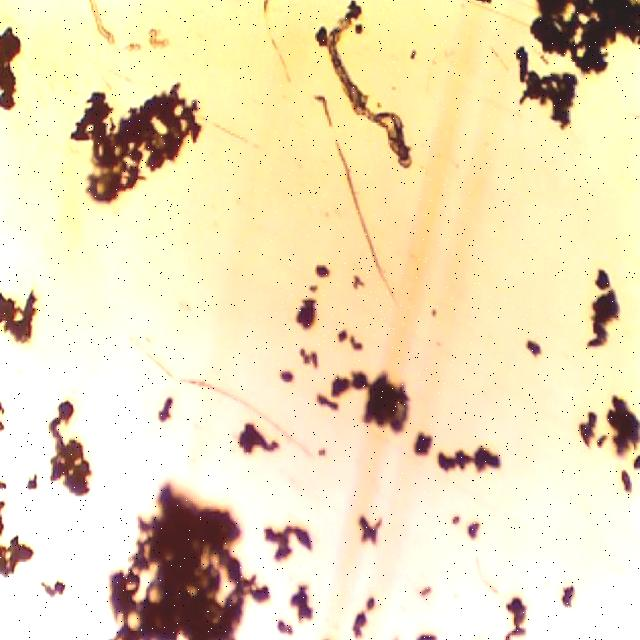Fibre: (122, 317, 322, 469), (313, 88, 403, 306)
